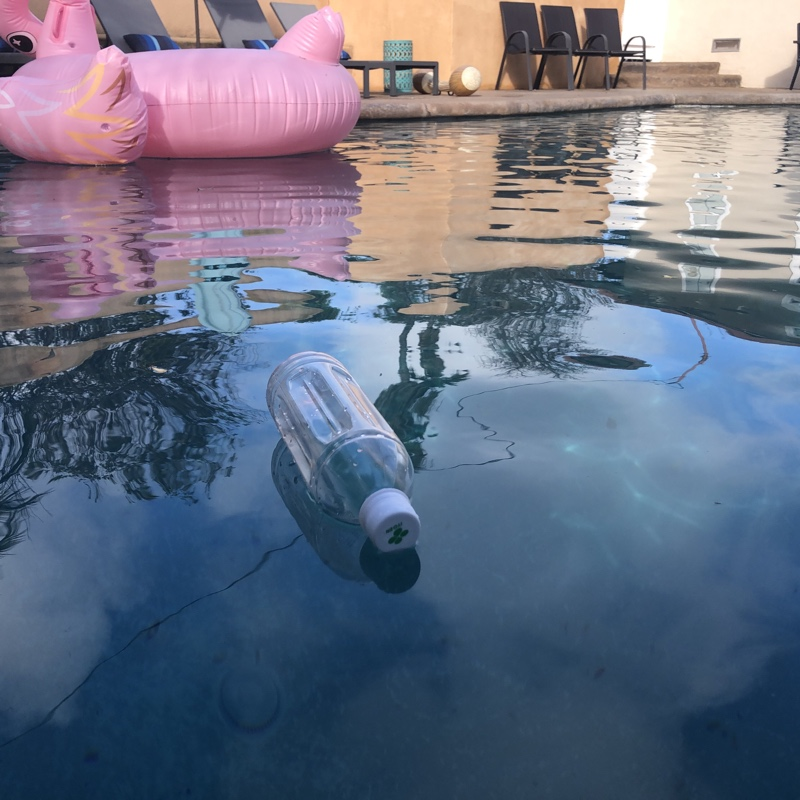Plastic Bottle: (260, 349, 424, 561)
